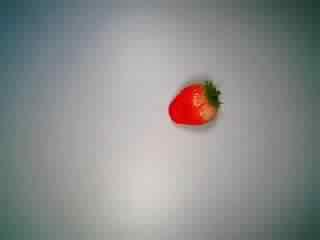strawberry: (160, 70, 226, 132)
